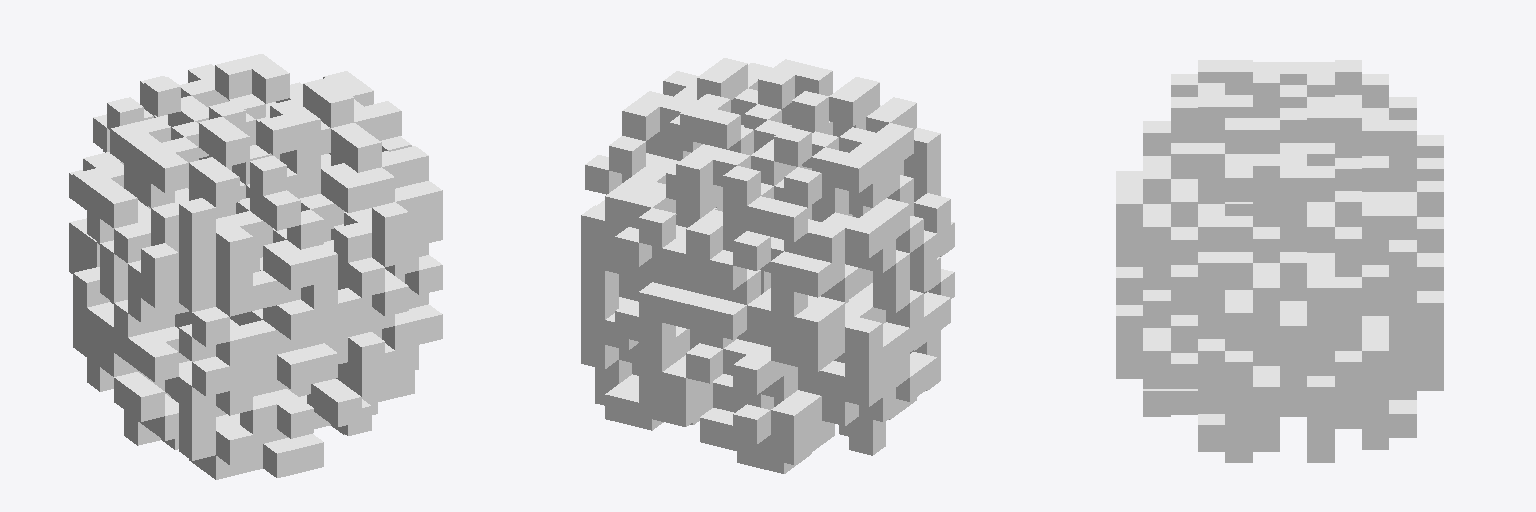
The model's file is Foliage_Set-11.obj.
3 views of the same model, side by side, from view 1: azimuth 30°, elevation 25°; view 2: azimuth 150°, elevation 25°; view 3: azimuth 270°, elevation 25° (orthographic).
Visible parts, largest first — view 1: object 1; view 2: object 1; view 3: object 1.
Part boxes in pixels (x1,y1,x2,y2): object 1: (69, 54, 442, 479); object 1: (581, 58, 954, 473); object 1: (1116, 60, 1443, 462).
Size of the model in its own units: 1.2 by 1.3 by 1.2.